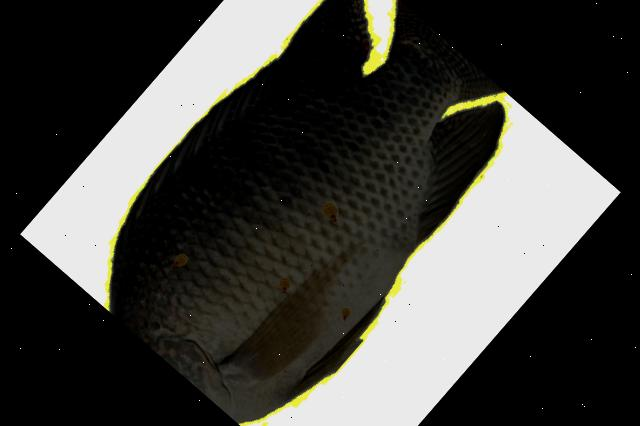Parasitic Disease: (111, 0, 503, 422)
